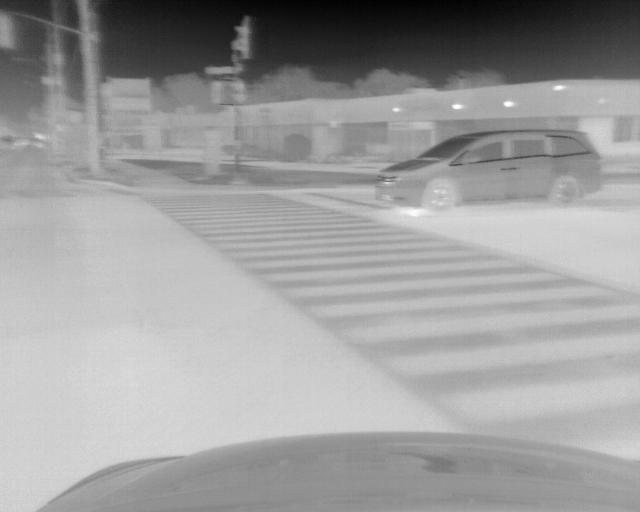car: (373, 126, 603, 213)
